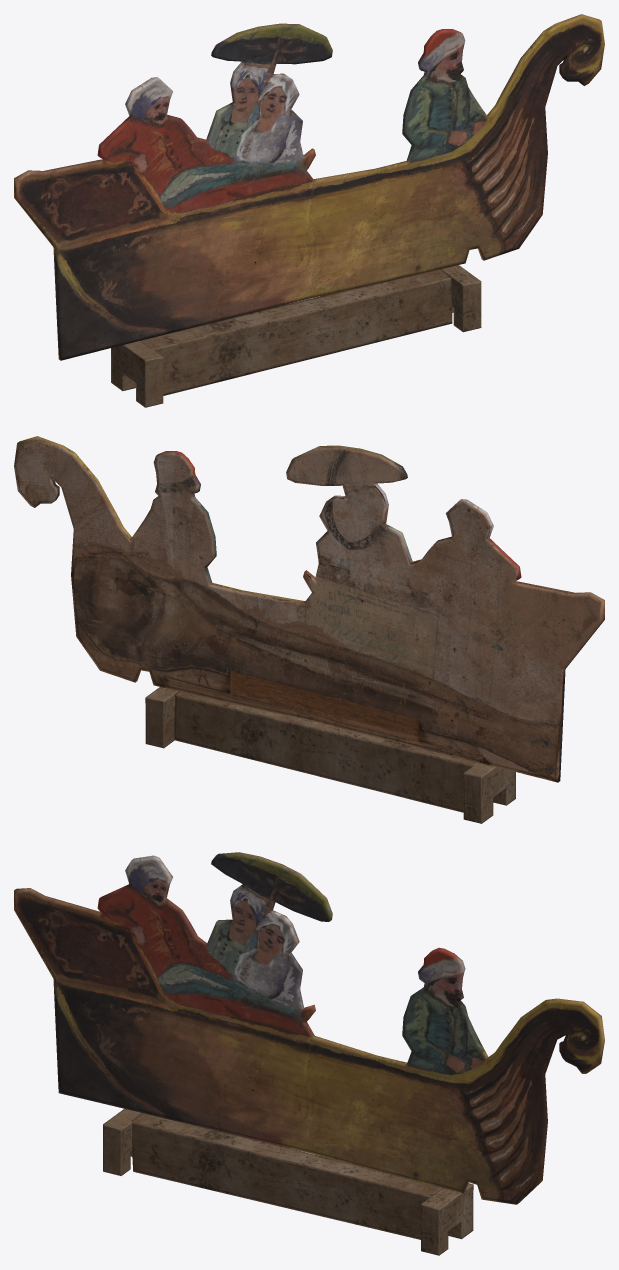
Rendered from Schiff06_LowpolyAnimation.fbx.
The picture shows the model from 3 angles, top to bottom: view 1: azimuth 30°, elevation 25°; view 2: azimuth 150°, elevation 25°; view 3: azimuth 330°, elevation 25°; orthographic projection.
Visible parts, largest first — view 1: Schiff06; view 2: Schiff06; view 3: Schiff06.
Part boxes in pixels (x1=…): Schiff06: x1=14, y1=14, x2=604, y2=407; Schiff06: x1=14, y1=436, x2=604, y2=823; Schiff06: x1=14, y1=852, x2=604, y2=1255.
Bounding box in the file's own units: 46.92 × 25.54 × 4.72.
2 materials, 2 textured.
